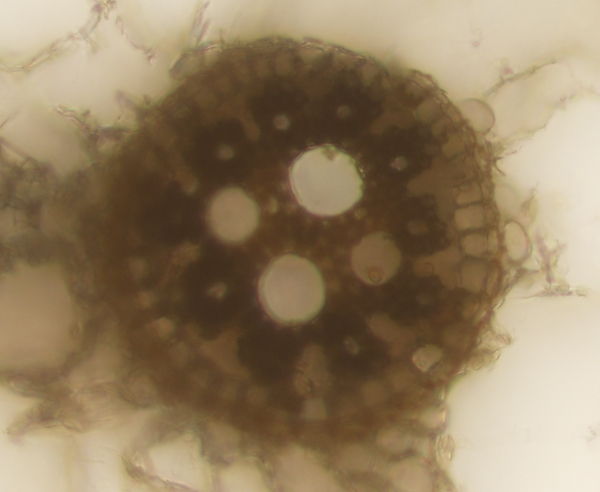lm: (288, 143, 364, 216), (258, 253, 326, 324), (207, 184, 260, 242), (350, 231, 403, 286)
